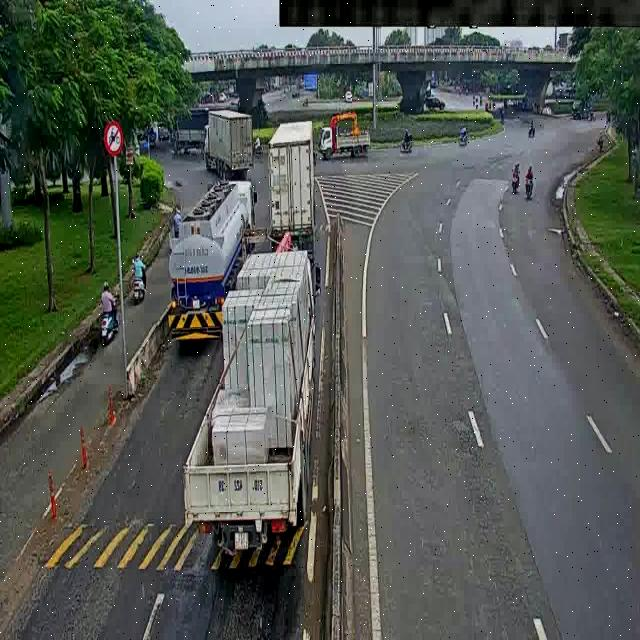motorbike: (90, 282, 130, 332), (129, 257, 158, 309), (523, 169, 544, 205), (528, 121, 551, 144), (454, 121, 472, 148), (506, 161, 522, 191), (496, 105, 508, 129), (402, 124, 412, 152)
truck: (212, 222, 325, 576), (172, 176, 264, 342), (259, 110, 327, 265), (197, 102, 261, 177), (160, 102, 243, 152), (314, 113, 372, 162)
